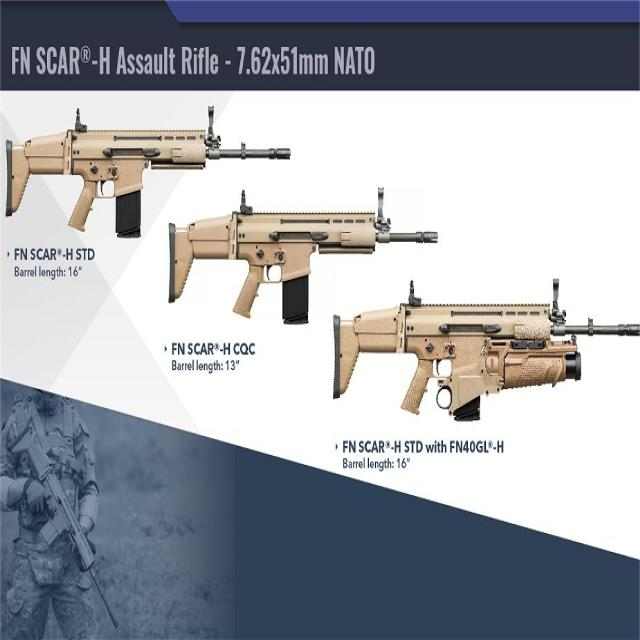Rifle: (331, 279, 640, 423), (3, 108, 291, 239), (168, 188, 437, 326)
